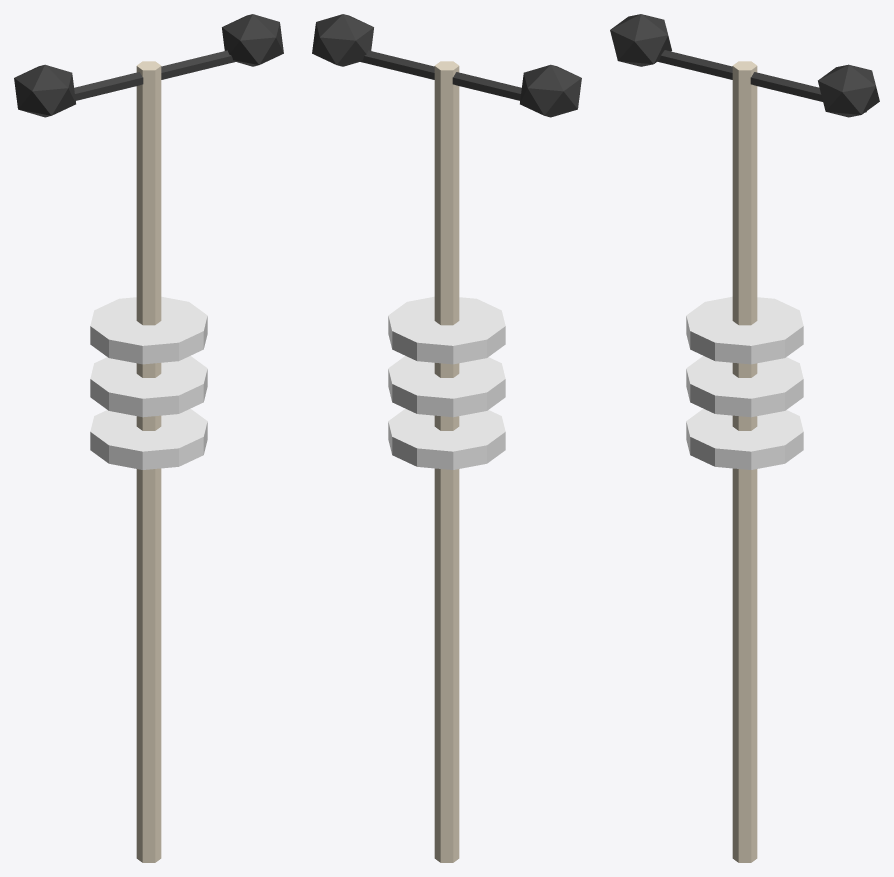
3 views of the same model, side by side, from view 1: azimuth 30°, elevation 25°; view 2: azimuth 150°, elevation 25°; view 3: azimuth 330°, elevation 25° (orthographic).
Visible parts, largest first — view 1: Mast, Sensor shield.002, Sensor shield.001, Sensor shield, Wind cup, Wind cup.001, Anemometer; view 2: Mast, Sensor shield.002, Sensor shield.001, Sensor shield, Wind cup, Wind cup.001, Anemometer; view 3: Mast, Sensor shield.002, Sensor shield.001, Sensor shield, Wind cup.001, Wind cup, Anemometer.
Part boxes in pixels (left/top/right/bottom): Mast: left=136, top=61, right=161, bottom=862; Sensor shield.002: left=90, top=296, right=207, bottom=364; Sensor shield.001: left=90, top=356, right=207, bottom=417; Sensor shield: left=90, top=408, right=207, bottom=469; Wind cup: left=14, top=64, right=75, bottom=117; Wind cup.001: left=222, top=14, right=283, bottom=66; Anemometer: left=74, top=50, right=236, bottom=100; Mast: left=434, top=61, right=459, bottom=862; Sensor shield.002: left=388, top=296, right=505, bottom=364; Sensor shield.001: left=388, top=356, right=505, bottom=417; Sensor shield: left=388, top=408, right=505, bottom=469; Wind cup: left=520, top=64, right=581, bottom=117; Wind cup.001: left=312, top=14, right=373, bottom=66; Anemometer: left=359, top=50, right=521, bottom=100; Mast: left=732, top=61, right=757, bottom=862; Sensor shield.002: left=686, top=296, right=803, bottom=364; Sensor shield.001: left=686, top=356, right=803, bottom=417; Sensor shield: left=686, top=408, right=803, bottom=469; Wind cup.001: left=818, top=64, right=879, bottom=117; Wind cup: left=610, top=14, right=671, bottom=66; Anemometer: left=657, top=50, right=866, bottom=112.
Bounding box in the file's own units: 0.3631 × 1.08 × 0.144.
1 material, 1 textured.
